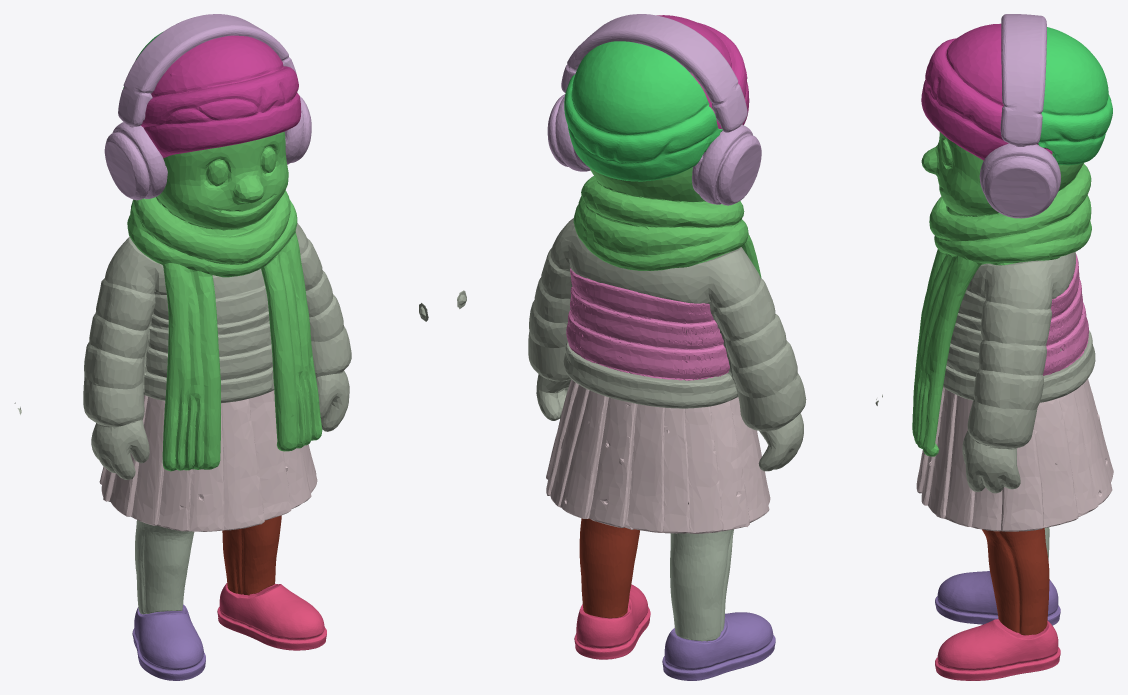
The picture shows the model from 3 angles, left to right: view 1: azimuth 30°, elevation 25°; view 2: azimuth 150°, elevation 25°; view 3: azimuth 270°, elevation 25°; orthographic projection. The views are drawn at different scales.
Visible parts, largest first — view 1: world; view 2: world; view 3: world.
Boxes of the visible parts, x1,y1,x2,y2 form: world: (14, 14, 428, 680); world: (457, 14, 882, 680); world: (912, 14, 1113, 680).
Size of the model in its own units: 1.39 by 2 by 0.5927.
